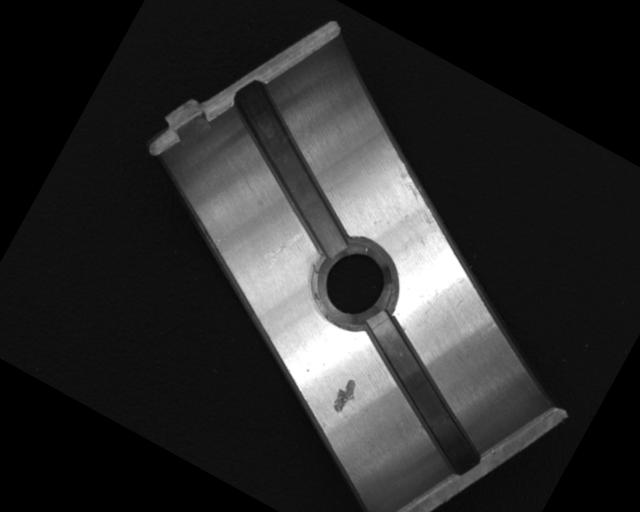bruise: (327, 374, 365, 419)
gap: (190, 74, 393, 261), (323, 307, 519, 481)
hole: (301, 231, 404, 339)
nick: (259, 220, 305, 276)
